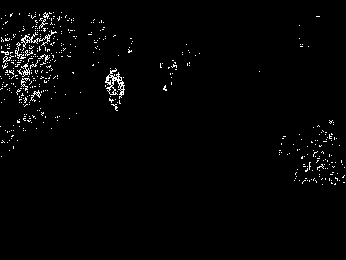person: (104, 68, 125, 114)
